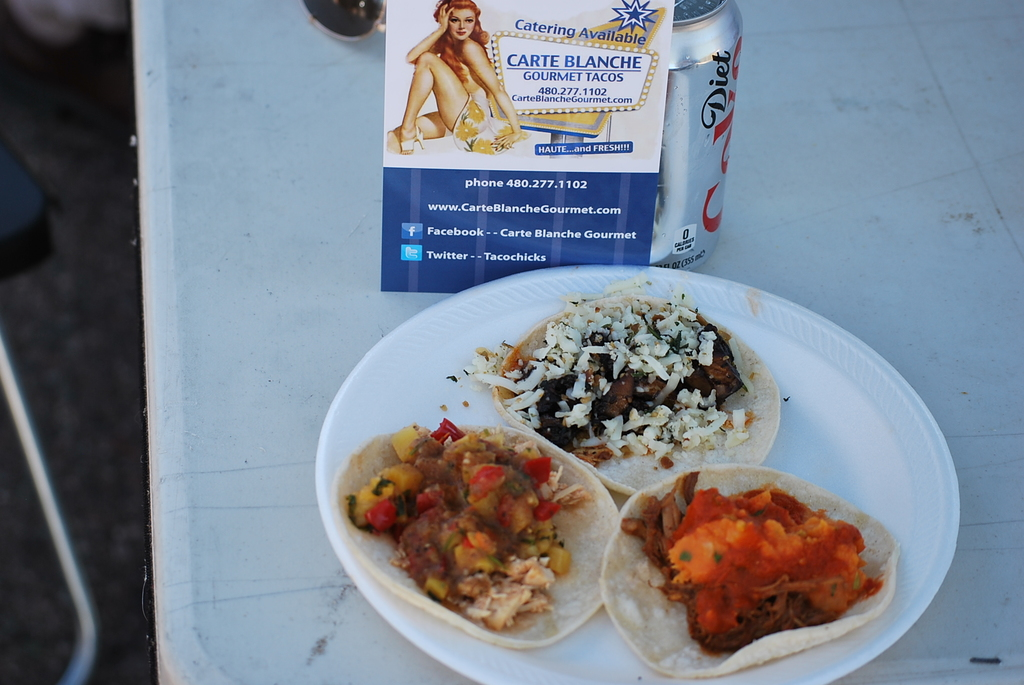taco: (335, 420, 618, 644), (613, 464, 895, 675)
